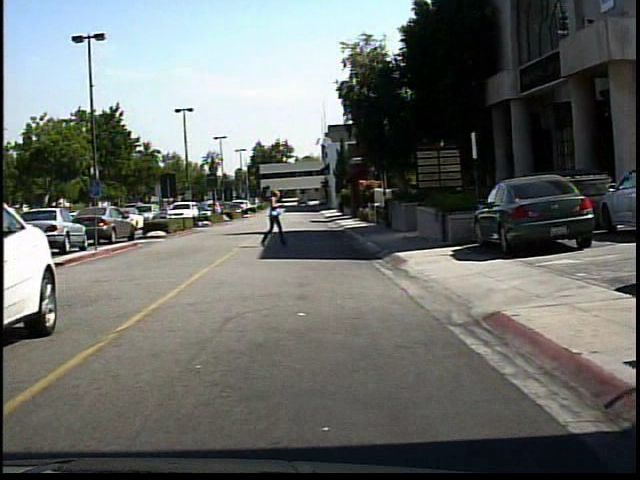person: (256, 186, 289, 250)
